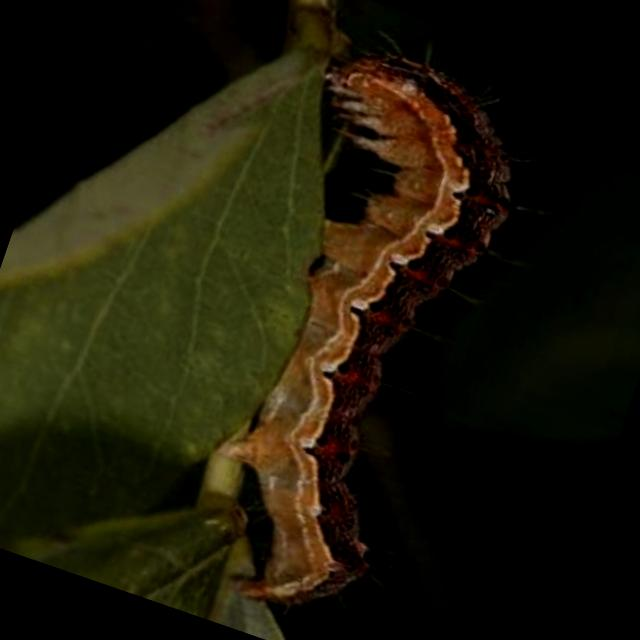Cotton bollworm: (122, 11, 597, 640)
